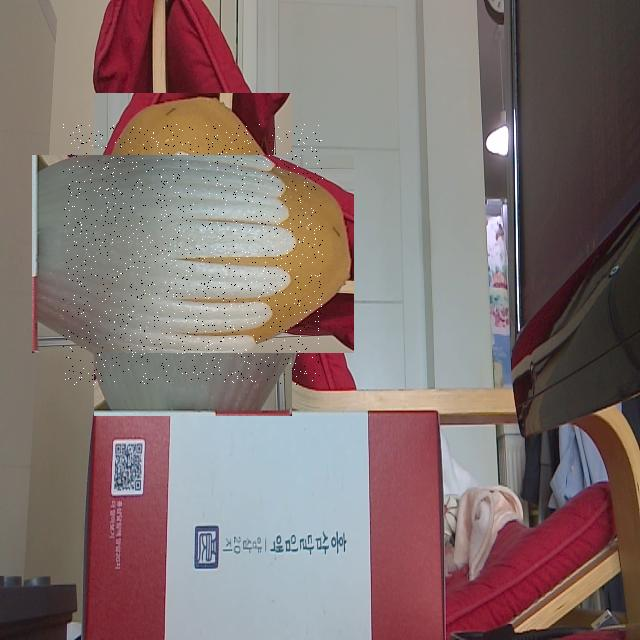pear: (63, 124, 323, 385)
